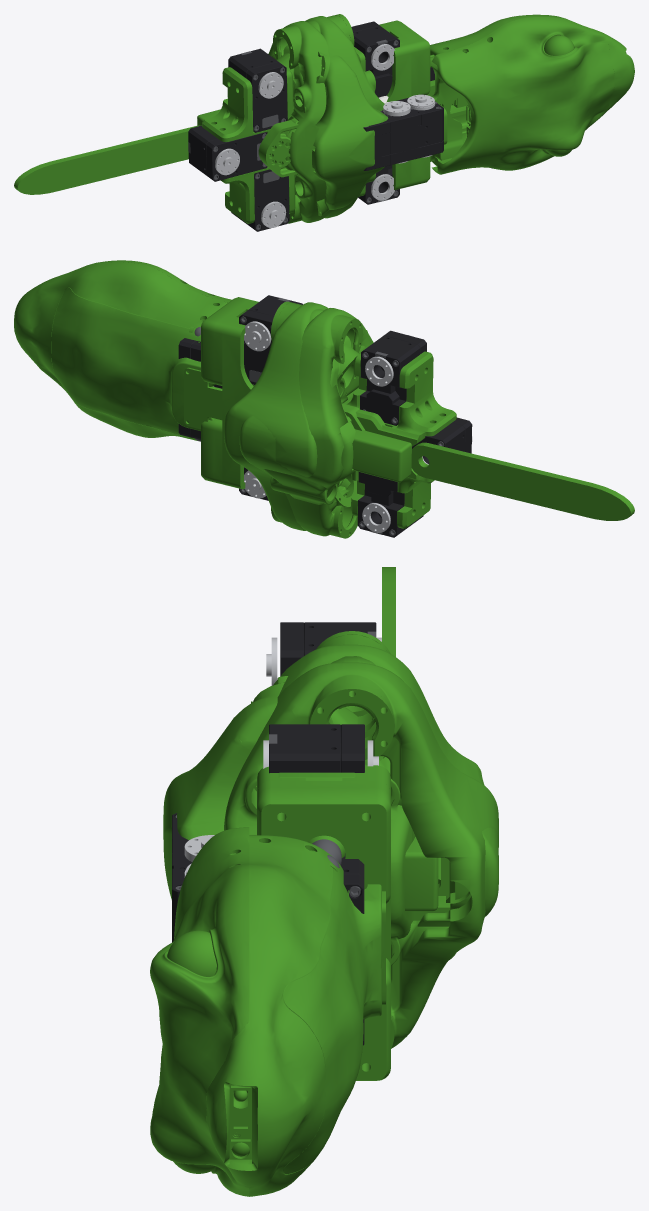
The model's file is gecko_visual.glb.
3 views of the same model, one above another, from view 1: azimuth 30°, elevation 25°; view 2: azimuth 150°, elevation 25°; view 3: azimuth 270°, elevation 25° (orthographic). The views are drawn at different scales.
Parts seen in each view (by area): view 1: base_link_printed, body3_printed, body3_servo, body2_printed, link4_rh_printed, body1_printed, link1_lf_servo, base_link_servo, body3_horn, link3_lh_servo, base_link_horn, link4_lf_printed (+5 smaller); view 2: base_link_printed, body3_printed, body2_printed, body1_printed, body3_servo, link4_lf_printed, link4_rh_printed, link4_lh_printed, base_link_servo, link2_lh_printed, body3_horn, base_link_horn (+3 smaller); view 3: base_link_printed, body1_printed, link4_lf_printed, body2_printed, base_link_servo, body3_printed, link4_rh_printed, link4_lh_printed, body3_servo.
Boxes of the visible parts, x1,y1,x2,y2 form: base_link_printed: (258,14,634,216); body3_printed: (14,45,306,223); body3_servo: (188,48,289,231); body2_printed: (268,21,333,223); link4_rh_printed: (379,20,429,101); body1_printed: (287,14,384,218); link1_lf_servo: (388,98,443,164); base_link_servo: (351,21,399,204); body3_horn: (215,72,286,227); link3_lh_servo: (363,100,418,170); base_link_horn: (355,25,395,200); link4_lf_printed: (382,21,430,101); base_link_printed: (14,260,385,489); body3_printed: (263,335,634,528); body2_printed: (239,308,373,538); body1_printed: (224,301,365,530); body3_servo: (357,330,472,537); link4_lf_printed: (201,297,258,415); link4_rh_printed: (189,297,257,404); link4_lh_printed: (201,395,240,486); base_link_servo: (214,295,302,500); link2_lh_printed: (184,383,222,429); body3_horn: (362,335,472,532); base_link_horn: (213,321,271,498); base_link_printed: (150,676,415,1196); body1_printed: (224,656,498,1048); link4_lf_printed: (257,768,390,927); body2_printed: (273,631,498,926); base_link_servo: (269,724,364,773); body3_printed: (282,567,468,959); link4_rh_printed: (257,765,390,898); link4_lh_printed: (356,917,390,1080); body3_servo: (280,622,376,675).
Bounding box in the file's own units: 0.4745 × 0.1523 × 0.1237.
